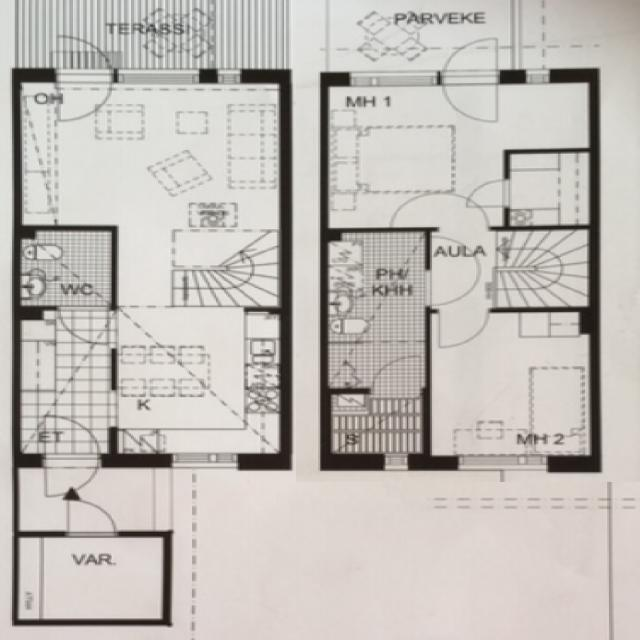door: (442, 71, 498, 124), (442, 32, 498, 85), (56, 29, 111, 82), (45, 416, 99, 469), (56, 68, 111, 120), (45, 455, 99, 507), (59, 305, 108, 345), (425, 270, 480, 304), (439, 194, 488, 232), (68, 499, 116, 537), (440, 308, 488, 346), (374, 356, 421, 394), (465, 179, 508, 206)
